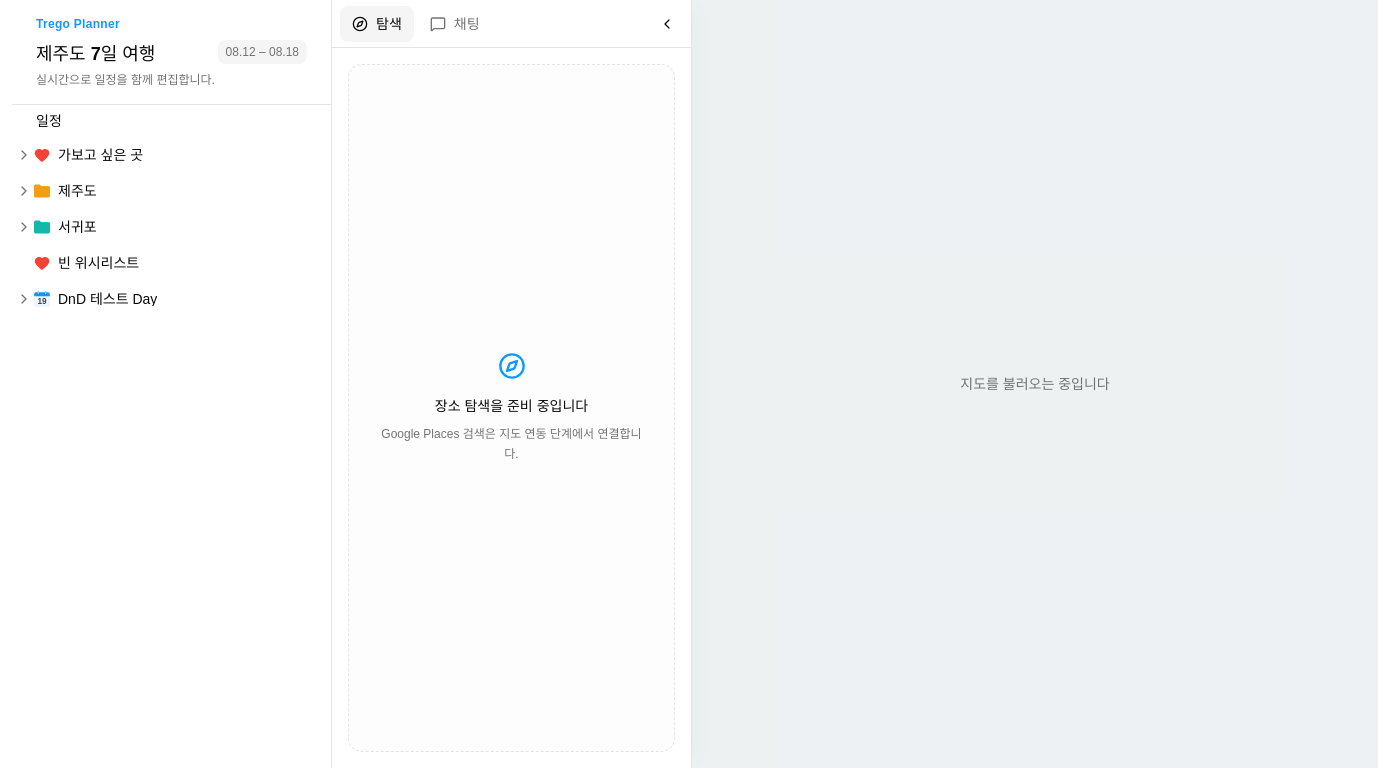
Test: PlannerSchedulePanel › shows the calendar day number when project dates include a timestamp
The image size is (1378, 768).
What coordinates should you click on to do the following:
click the button named "제주도 펼치기"
I would click on:
 (24, 191)
Its box is [14, 173, 34, 209].
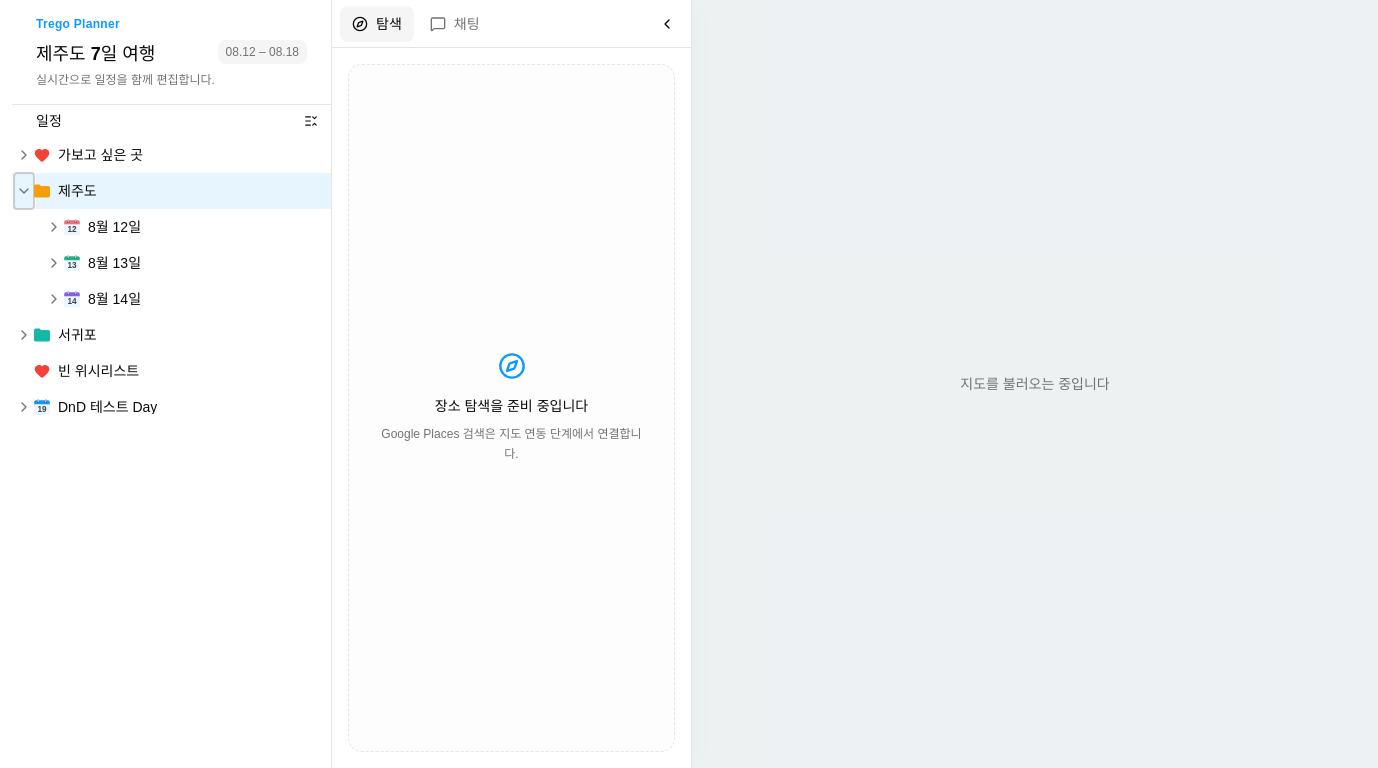
Check: the icon "12" is shown, box [64, 219, 80, 235]
